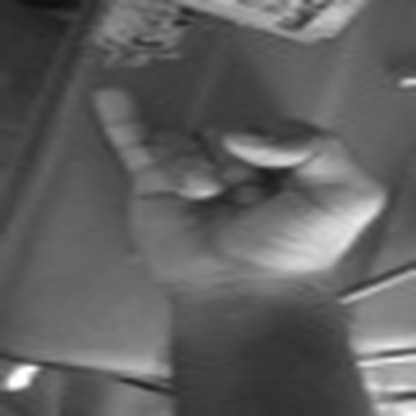i: (84, 72, 391, 311)
